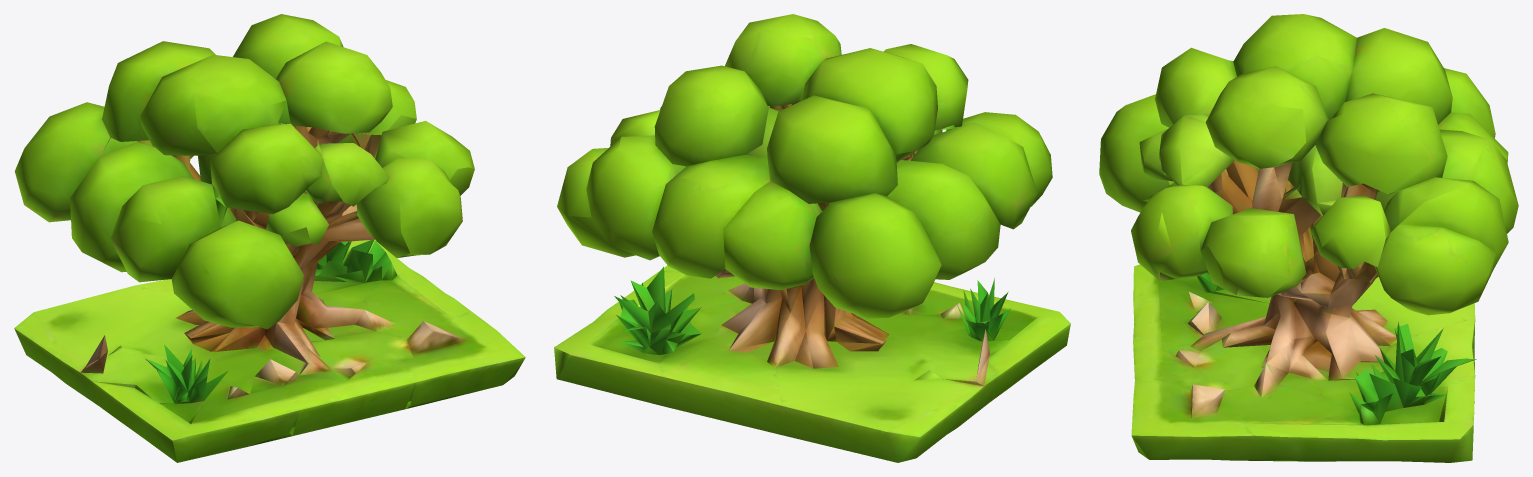
File: m2BranchPlatform.glb
The picture shows the model from 3 angles, left to right: view 1: azimuth 30°, elevation 25°; view 2: azimuth 150°, elevation 25°; view 3: azimuth 270°, elevation 25°; orthographic projection. The views are drawn at different scales.
Parts seen in each view (by area): view 1: model; view 2: model; view 3: model.
Boxes of the visible parts, x1,y1,x2,y2 form: model: (14, 14, 525, 462); model: (554, 14, 1070, 462); model: (1099, 14, 1518, 462).
Bounding box in the file's own units: 1.9 × 1.56 × 1.84.
Materials: 1 (1 with a texture image).
